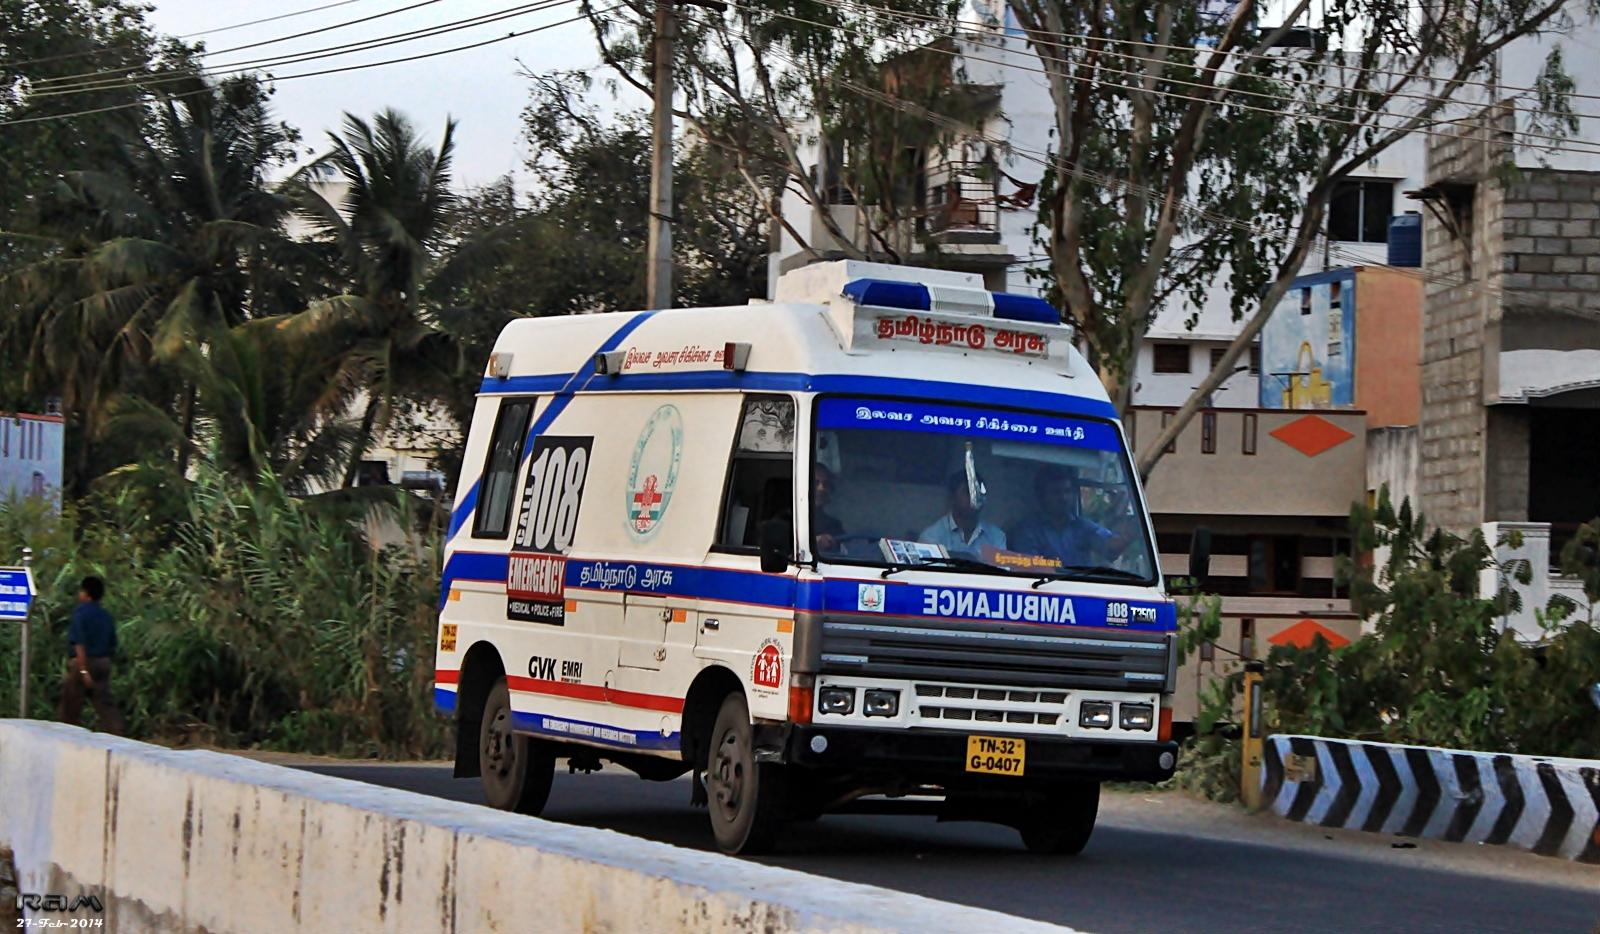ER: (433, 260, 1173, 849)
